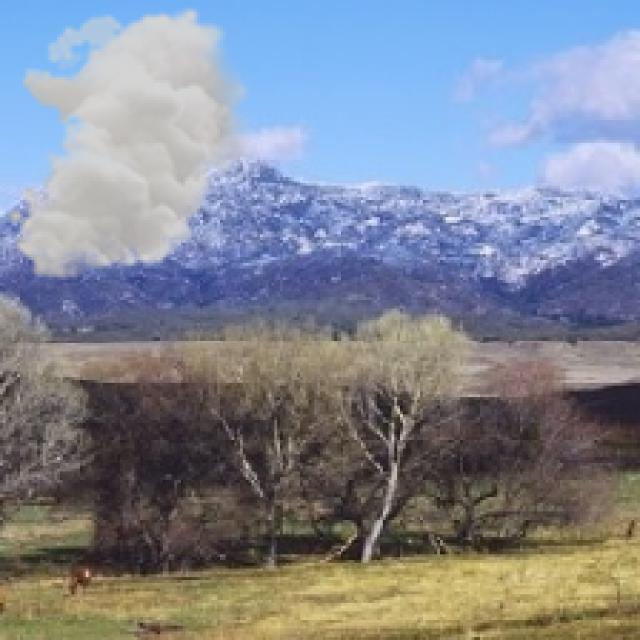smoke: (6, 6, 260, 280)
